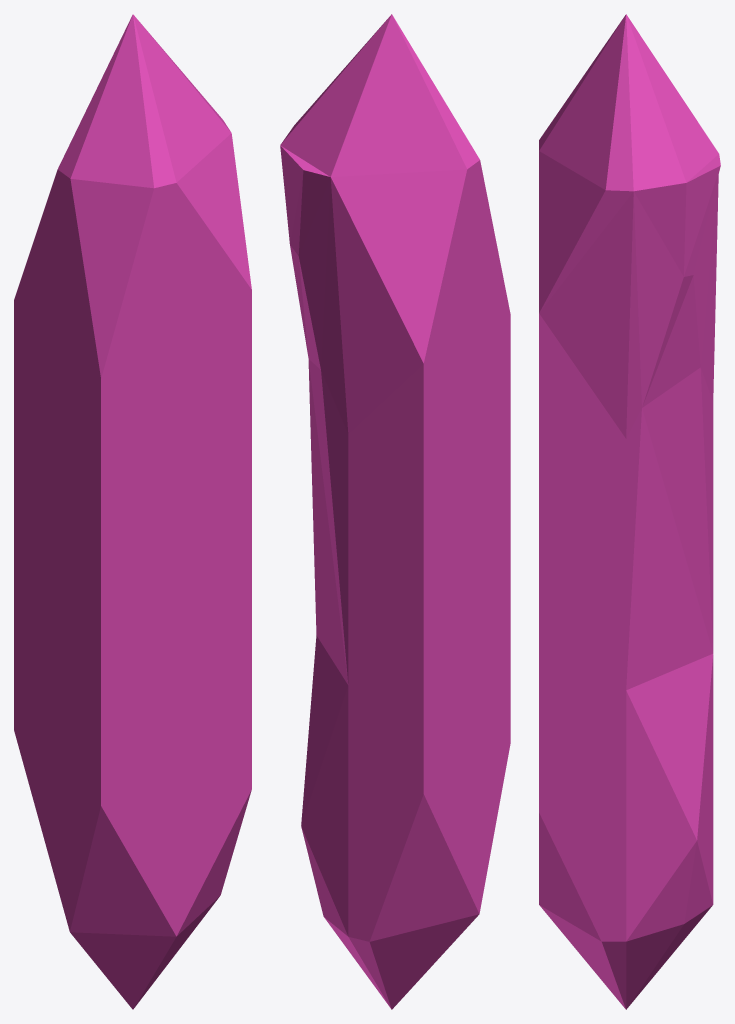
File: SM_Crystal_B.fbx
3 renders of one model, left to right at view 1: azimuth 30°, elevation 25°; view 2: azimuth 150°, elevation 25°; view 3: azimuth 270°, elevation 25°, orthographic.
Parts seen in each view (by area): view 1: SM_Crystal_B; view 2: SM_Crystal_B; view 3: SM_Crystal_B.
Part boxes in pixels (x1,y1,x2,y2): SM_Crystal_B: (14, 14, 251, 1009); SM_Crystal_B: (280, 14, 510, 1009); SM_Crystal_B: (539, 14, 720, 1009).
Size of the model in its own units: 15.67 by 88.11 by 14.57.
